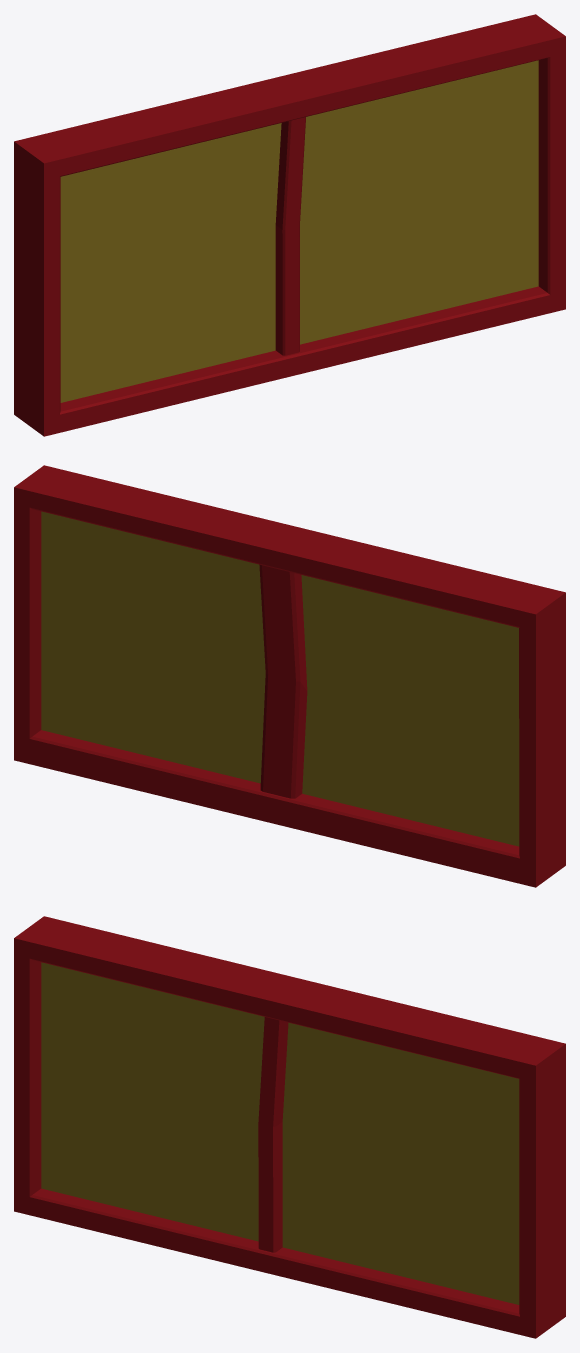
The model's file is SM_MH_01_Plaster_Wall_Half_H_02.fbx.
The picture shows the model from 3 angles, top to bottom: view 1: azimuth 30°, elevation 25°; view 2: azimuth 150°, elevation 25°; view 3: azimuth 330°, elevation 25°; orthographic projection.
Visible parts, largest first — view 1: SM_MH_01_Plaster_Wall_Half_H_02_LOD0; view 2: SM_MH_01_Plaster_Wall_Half_H_02_LOD0; view 3: SM_MH_01_Plaster_Wall_Half_H_02_LOD0.
Boxes of the visible parts, x1=… form: SM_MH_01_Plaster_Wall_Half_H_02_LOD0: x1=14, y1=14, x2=565, y2=436; SM_MH_01_Plaster_Wall_Half_H_02_LOD0: x1=14, y1=465, x2=565, y2=887; SM_MH_01_Plaster_Wall_Half_H_02_LOD0: x1=14, y1=916, x2=565, y2=1338.
Size of what is drawn, in the model's own units: 300 by 150 by 30.
